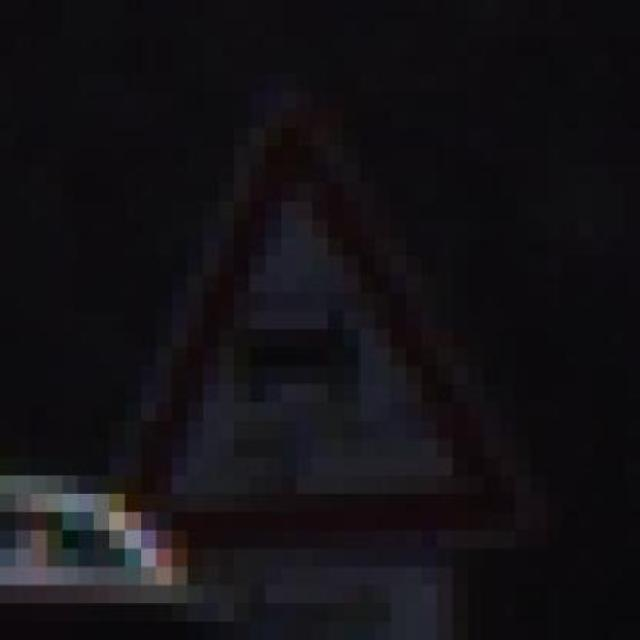Slippery Road Ahead: (78, 92, 562, 586)
